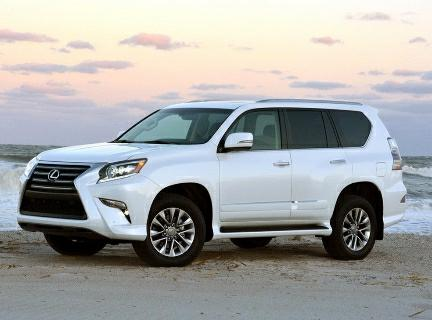car: (10, 96, 412, 266)
